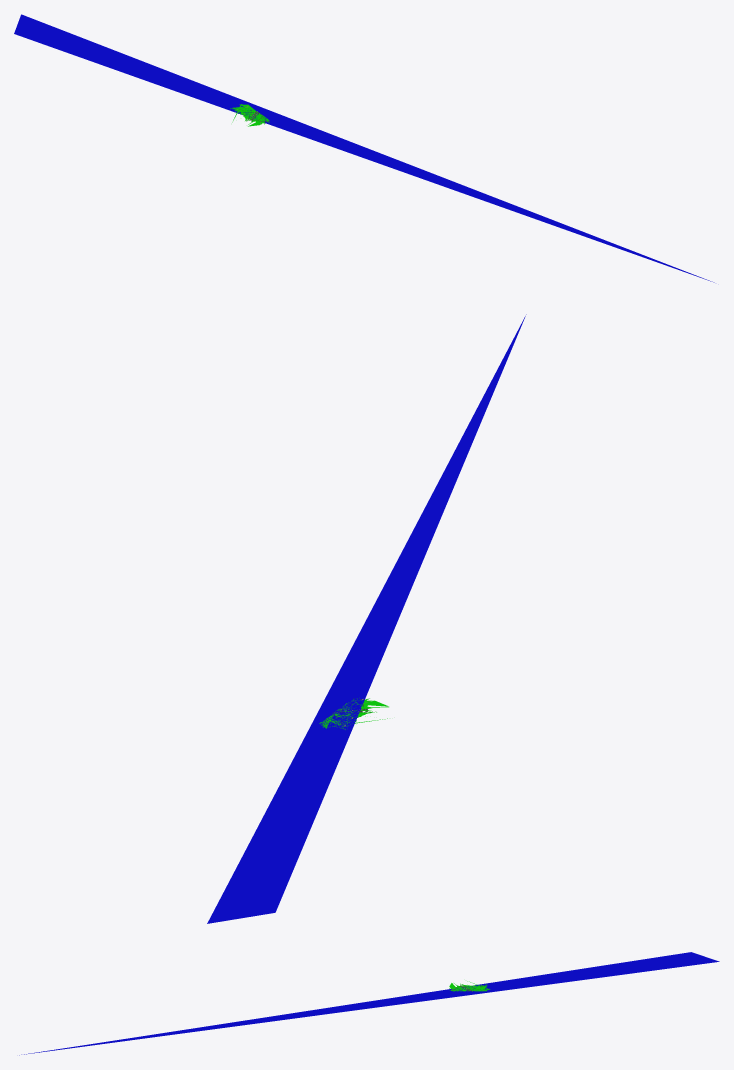
The picture shows the model from 3 angles, top to bottom: view 1: azimuth 30°, elevation 25°; view 2: azimuth 150°, elevation 25°; view 3: azimuth 270°, elevation 25°; orthographic projection. The views are drawn at different scales.
Size of the model in its own units: 2450 by 7.5 by 7032.
